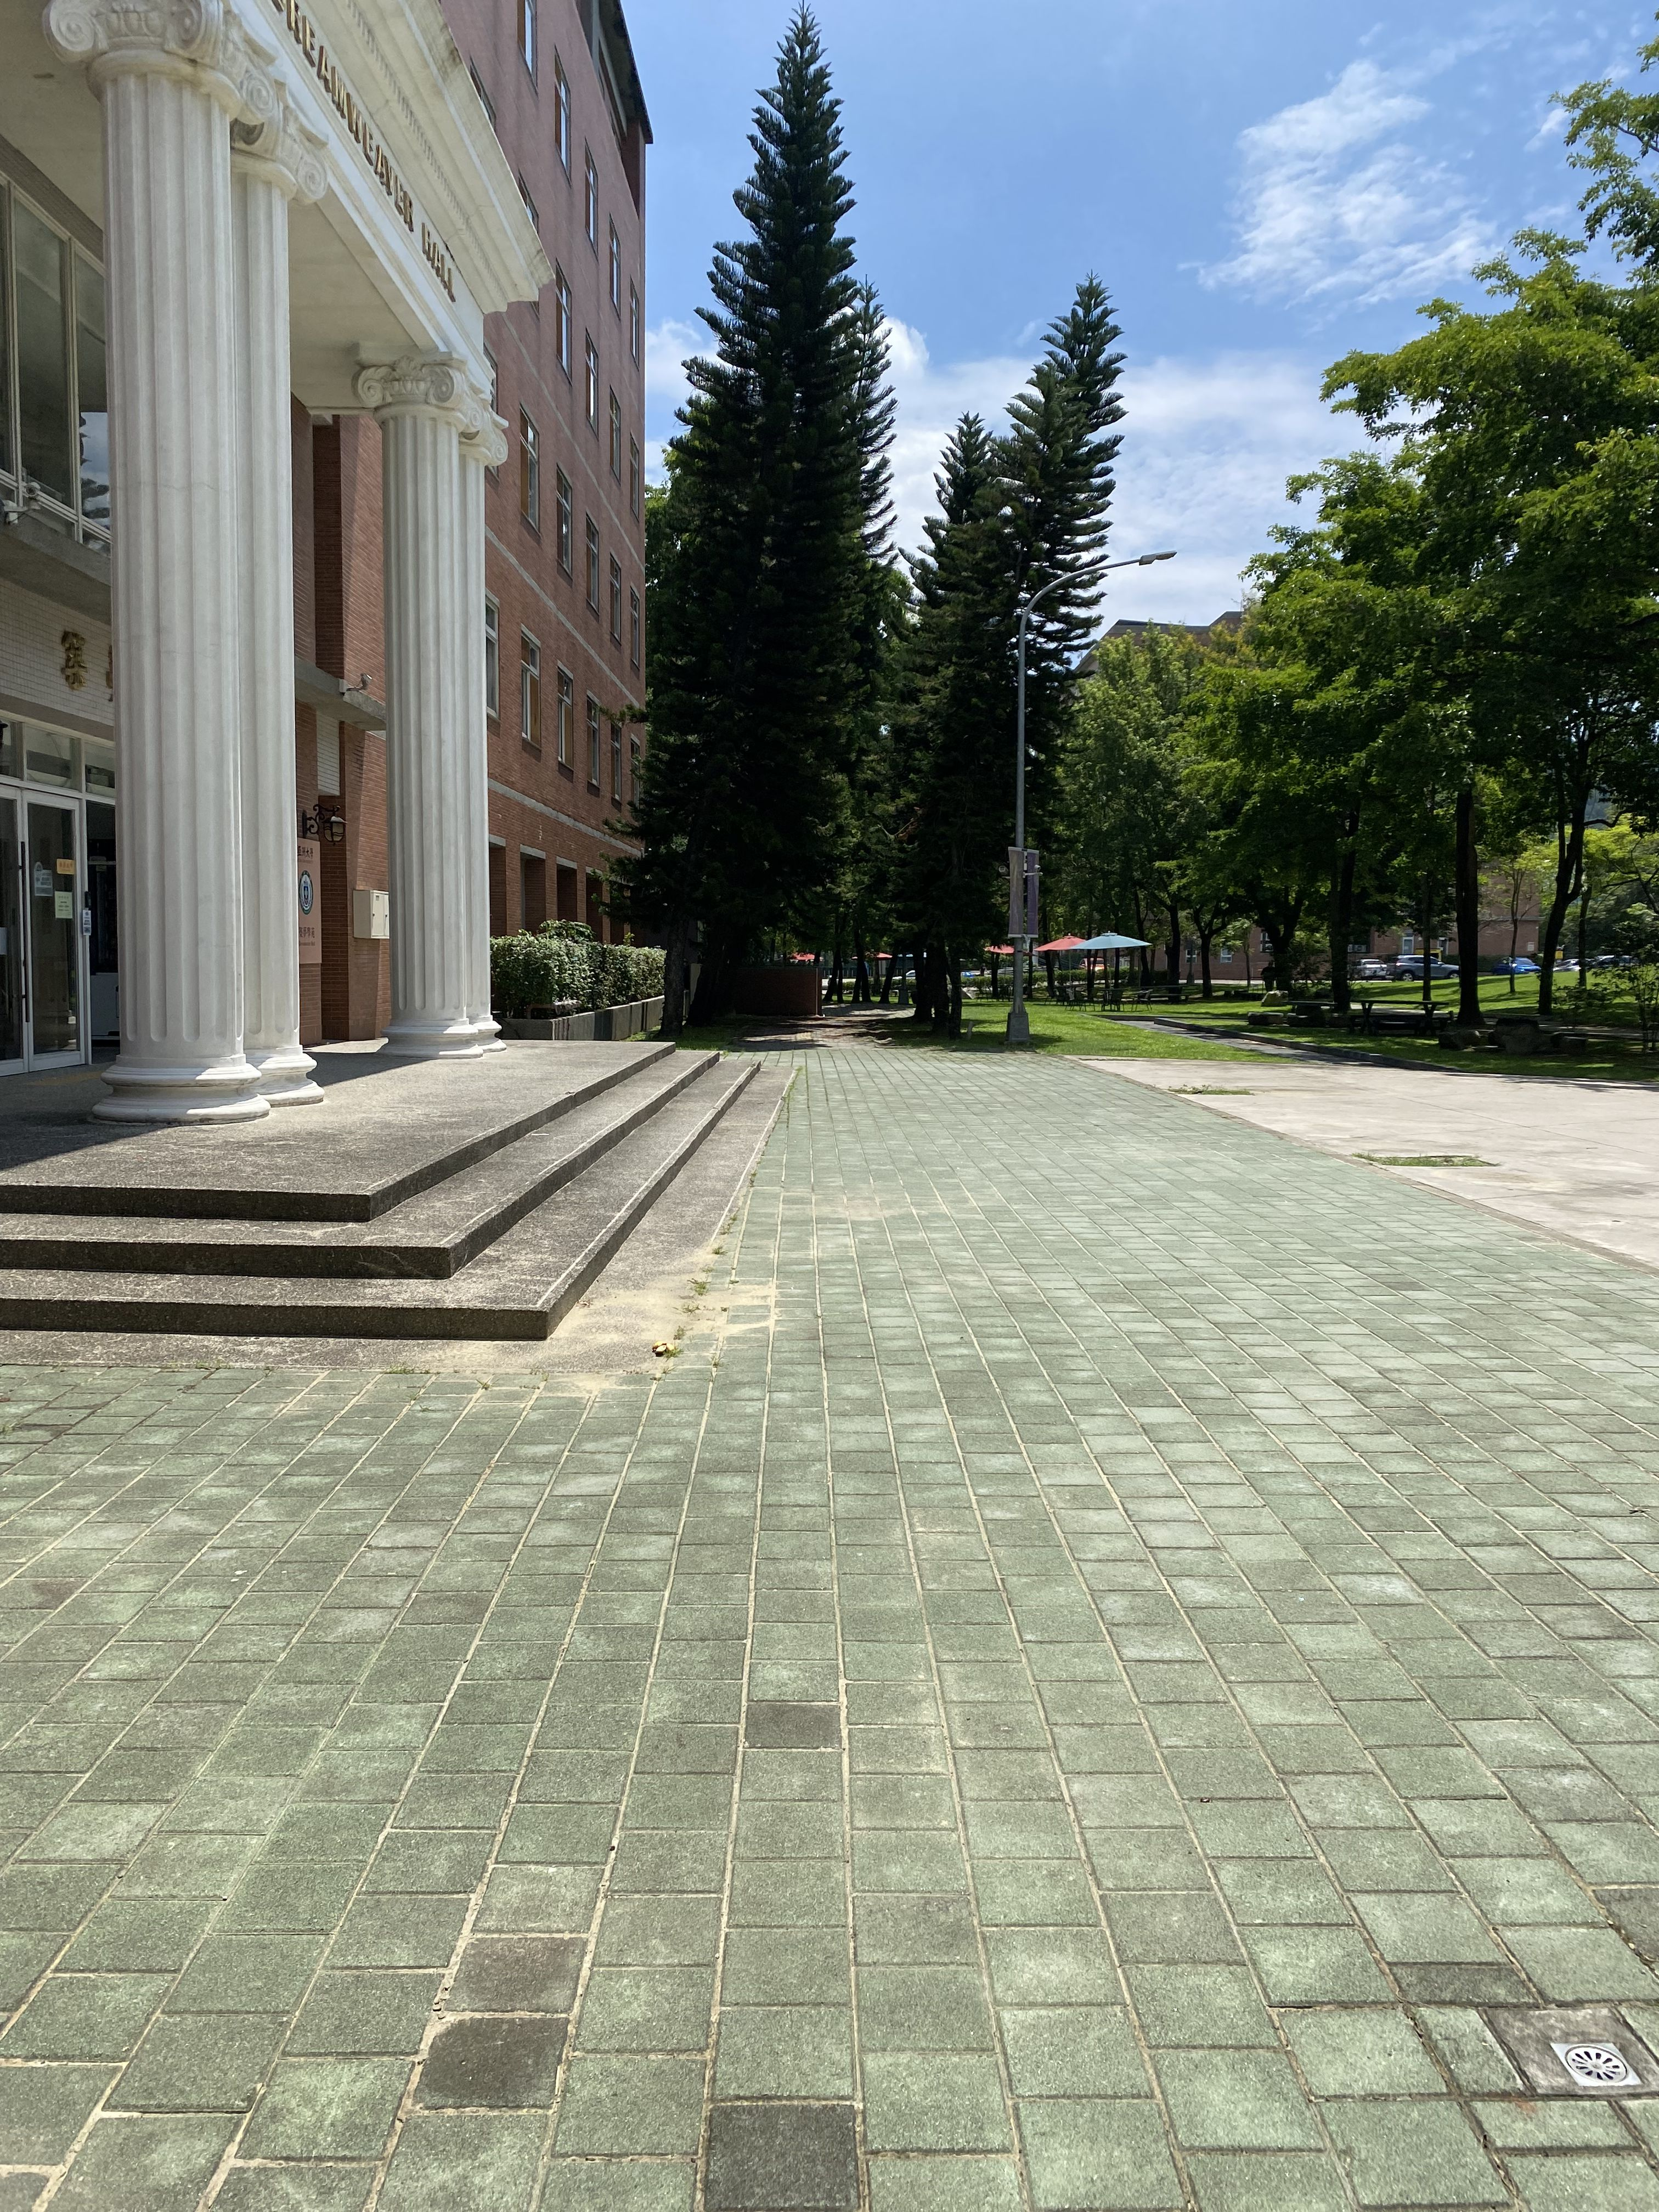0: (0, 1341, 653, 2212)
sidewalk: (634, 1012, 1659, 2212)
